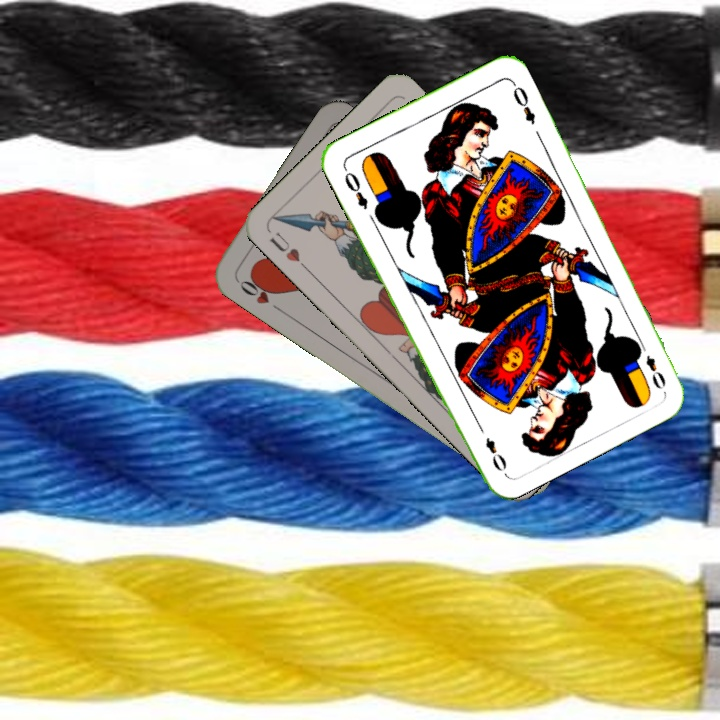EO: (634, 337, 669, 392), (339, 163, 371, 212)
HO: (233, 270, 285, 314)
HU: (265, 227, 311, 273)
